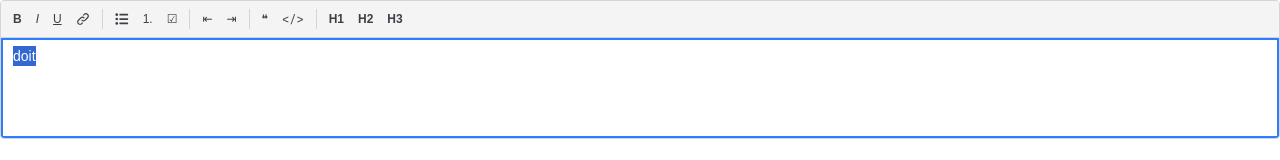
Test: links › closes on Escape without changing anything
This screenshot has width=1280, height=160.
Click the button titled "Link (⌘K)": (83, 19) [70,6,96,32]
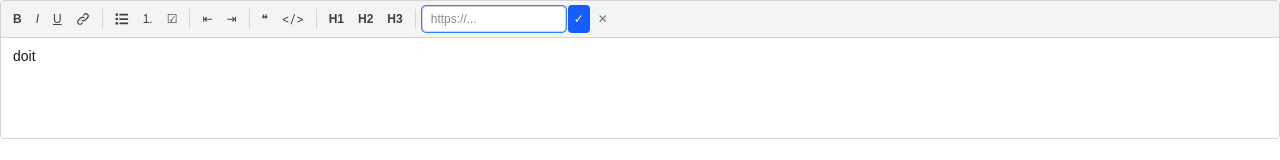
Press Escape in the field with placeholder "https://...", box [422,6,566,32]
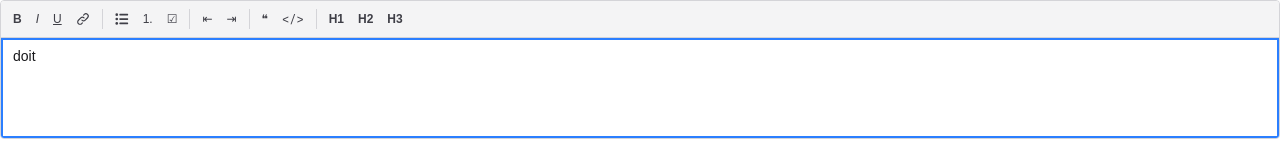
Now the field with placeholder "https://..." is gone
